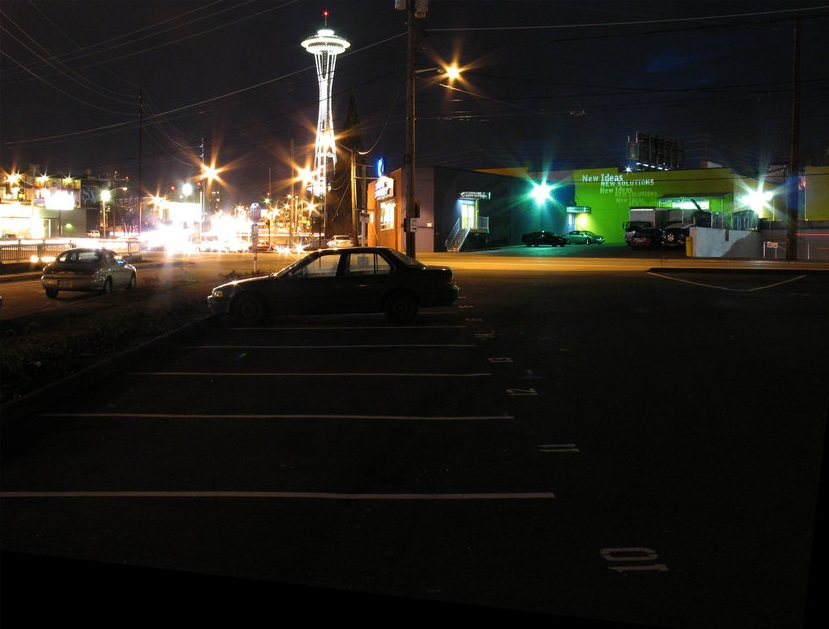car: (35, 249, 143, 306)
